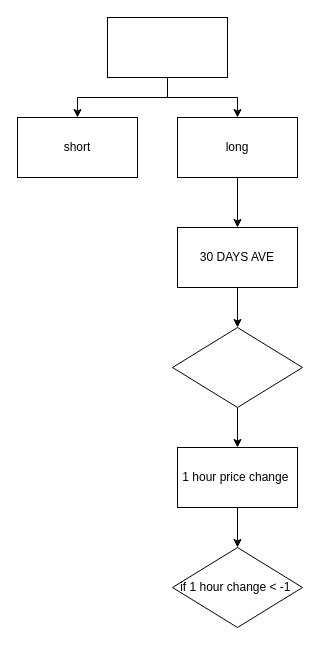
The diagram is 320 pixels wide and 645 high, and some of its shapes have lost their labels. Each missing label, with the centre of its shape:
if current < 30 days ave*1.2: point (237, 367)
sort stocks: point (167, 47)
